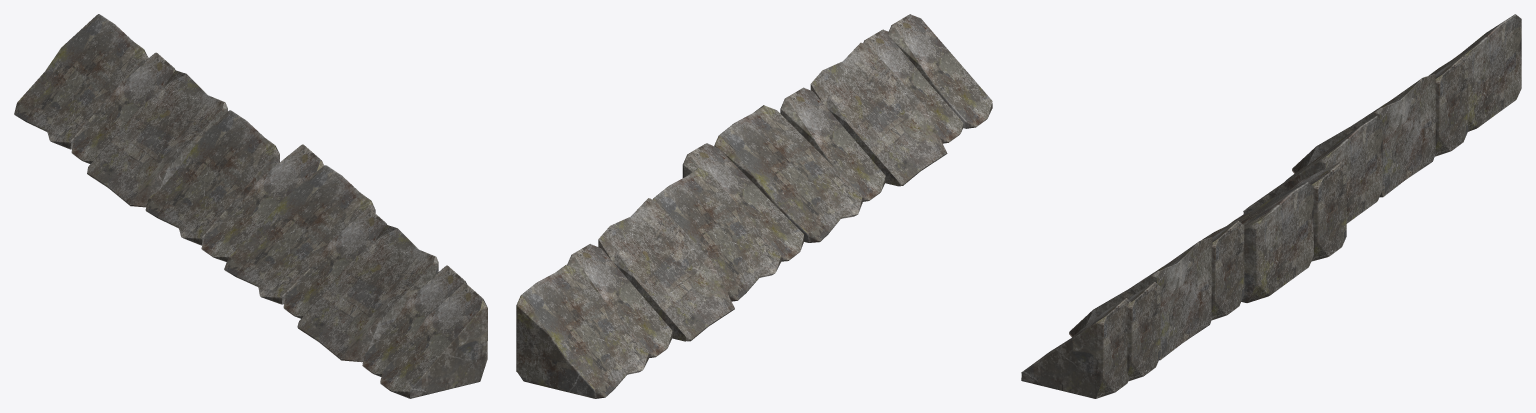
File: SM_CastleTower_WallTopper_A_01.fbx
The picture shows the model from 3 angles, left to right: view 1: azimuth 30°, elevation 25°; view 2: azimuth 150°, elevation 25°; view 3: azimuth 330°, elevation 25°; orthographic projection. The views are drawn at different scales.
Visible parts, largest first — view 1: SM_CastleTower_WallTopper_A_01_LOD0; view 2: SM_CastleTower_WallTopper_A_01_LOD0; view 3: SM_CastleTower_WallTopper_A_01_LOD0.
Part boxes in pixels (left/top/right/bottom): SM_CastleTower_WallTopper_A_01_LOD0: left=14, top=14, right=487, bottom=398; SM_CastleTower_WallTopper_A_01_LOD0: left=516, top=14, right=992, bottom=398; SM_CastleTower_WallTopper_A_01_LOD0: left=1021, top=14, right=1521, bottom=398.
Bounding box in the file's own units: 65.13 × 401 × 48.15.
